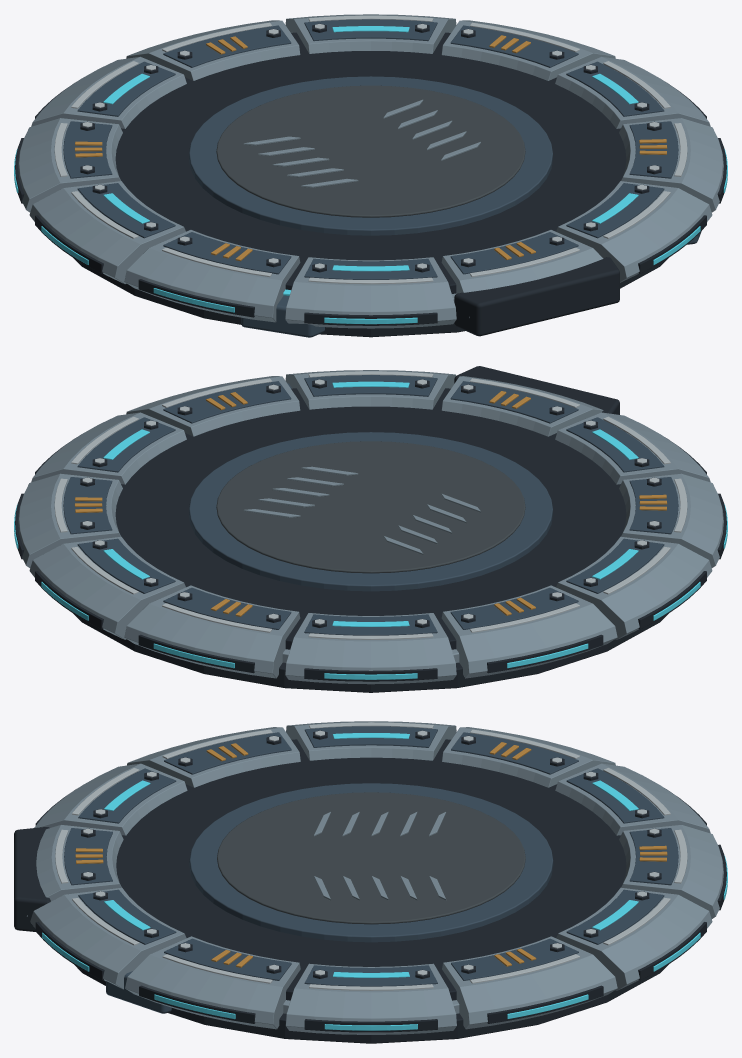
The model's file is deployment_platform.glb.
3 views of the same model, one above another, from view 1: azimuth 30°, elevation 25°; view 2: azimuth 150°, elevation 25°; view 3: azimuth 270°, elevation 25° (orthographic).
Parts seen in each view (by area): view 1: Chassis, LightGuides; view 2: Chassis, LightGuides; view 3: Chassis, LightGuides.
Boxes of the visible parts, x1,y1,x2,y2 form: Chassis: [15, 14, 726, 337]; LightGuides: [14, 26, 727, 324]; Chassis: [15, 366, 726, 692]; LightGuides: [14, 381, 727, 679]; Chassis: [14, 721, 726, 1043]; LightGuides: [42, 733, 727, 1030].
Bounding box in the file's own units: 3.29 × 0.258 × 3.3.
